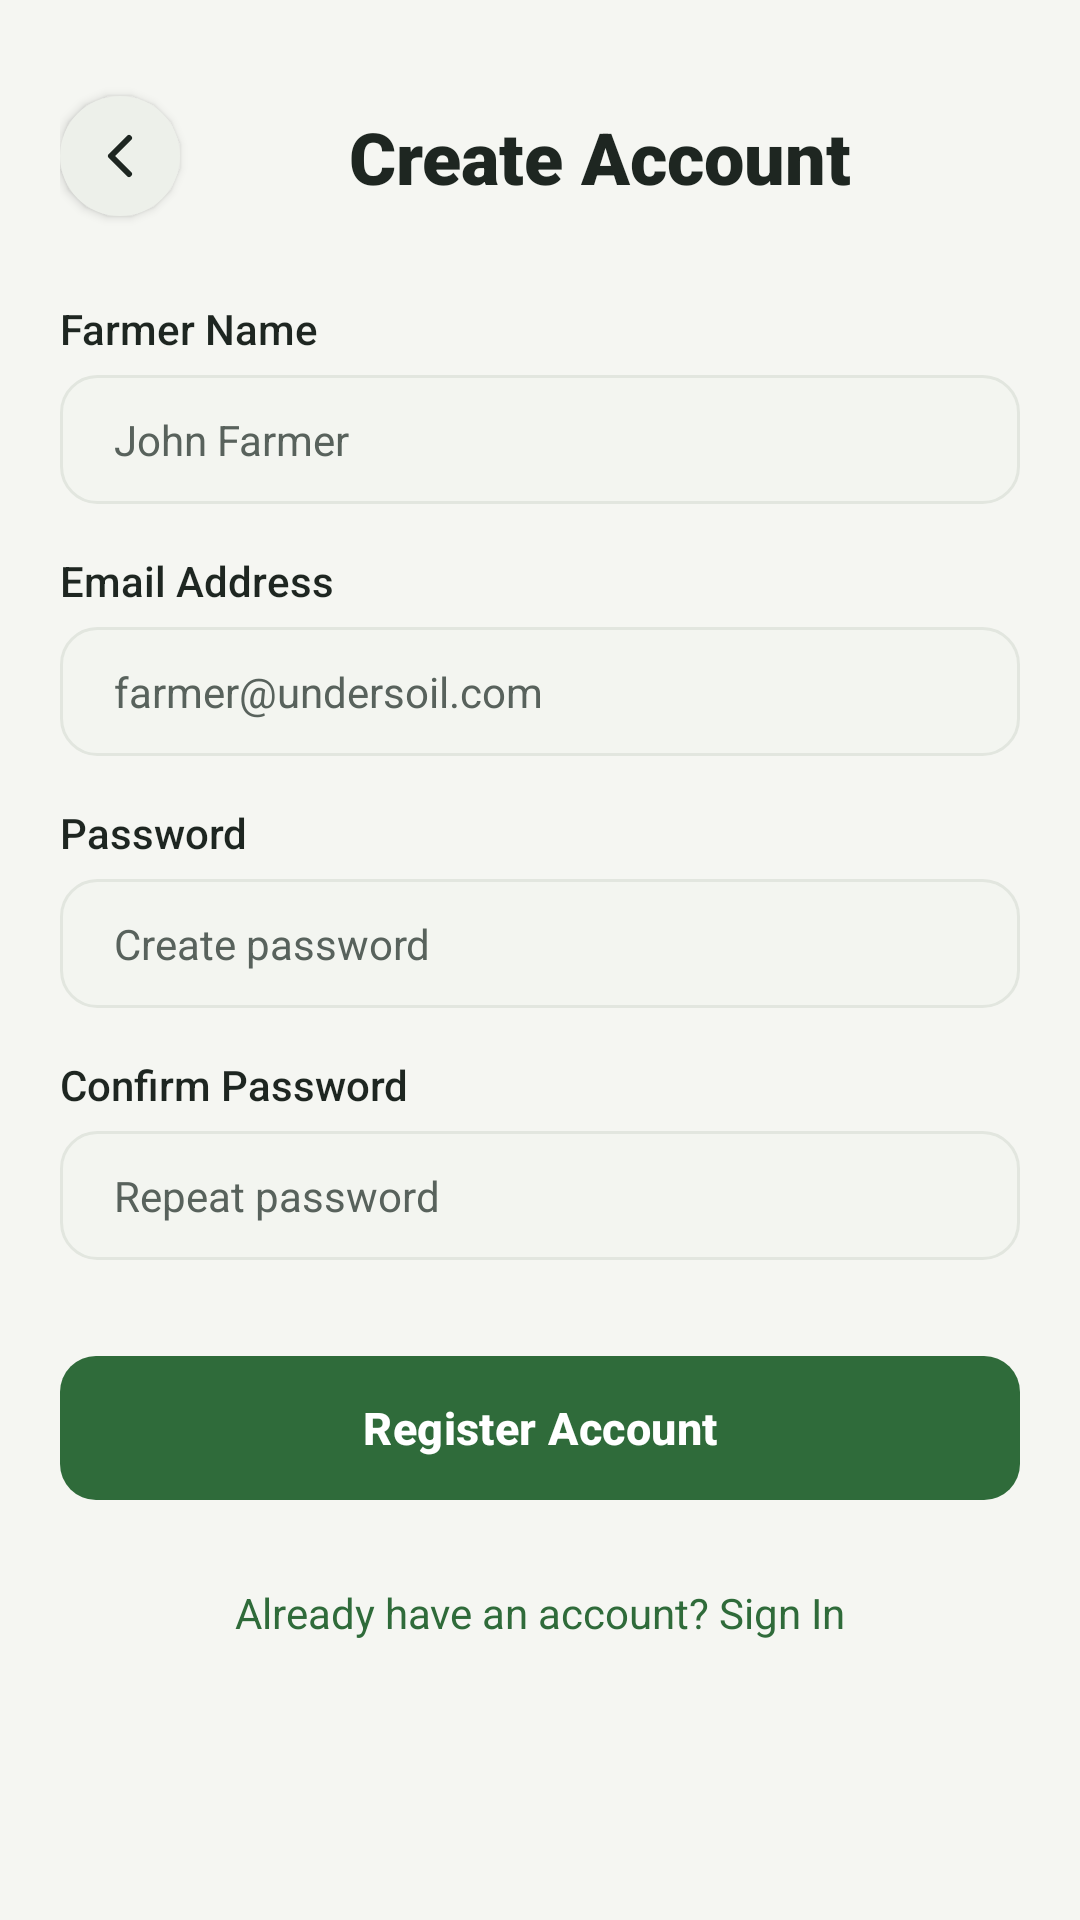

Where icons sit on this 1080px×1920px app screen, as [x1, y1, x2, y2]:
Back: [60, 97, 132, 216]
